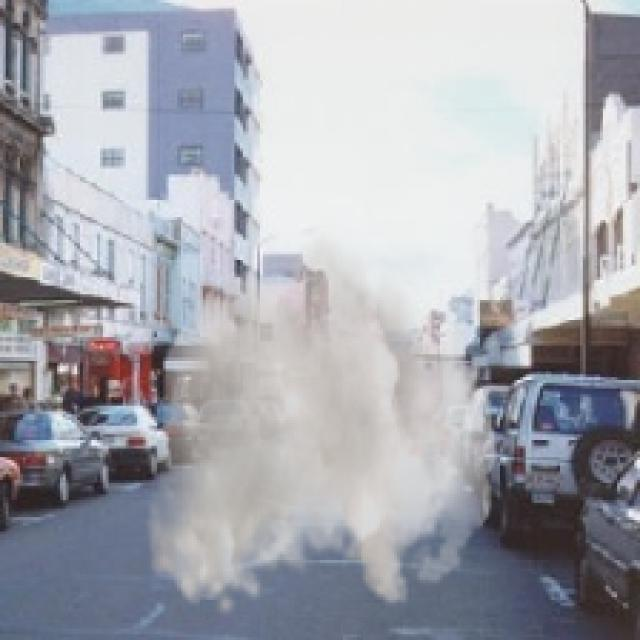smoke: (146, 217, 497, 617)
